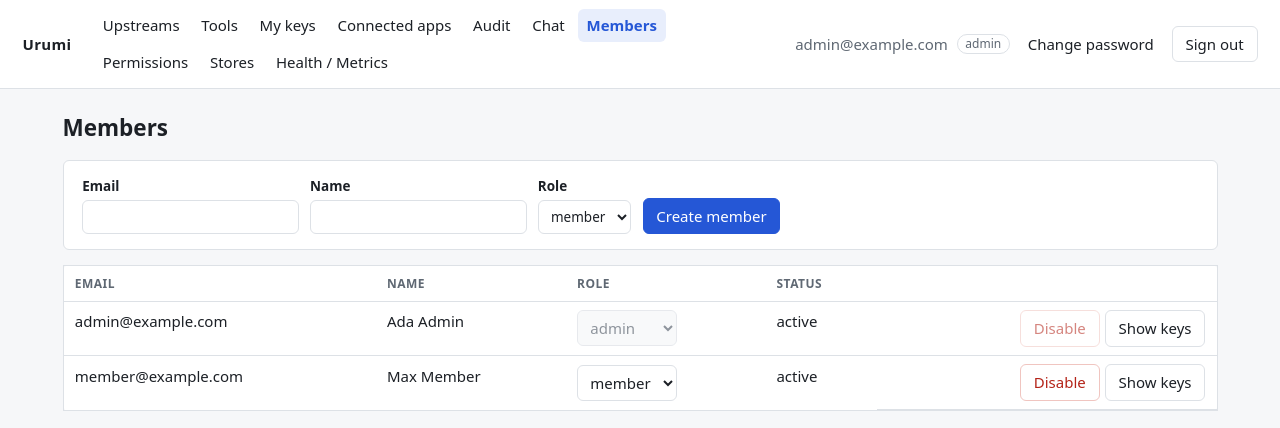
Test: members page (admin) › changes role and disables/enables a member
Select "admin" in the dropdown named "Role for member@example.com": (627, 382) [577,364,676,400]
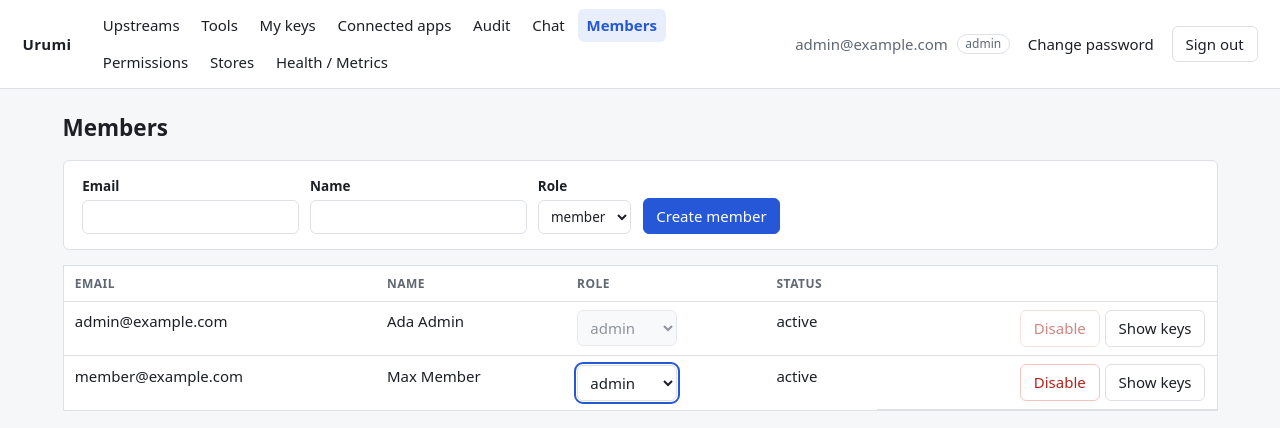
Click the button "Disable" in the row of "member@example.com": click(1060, 382) [1020,364,1100,400]
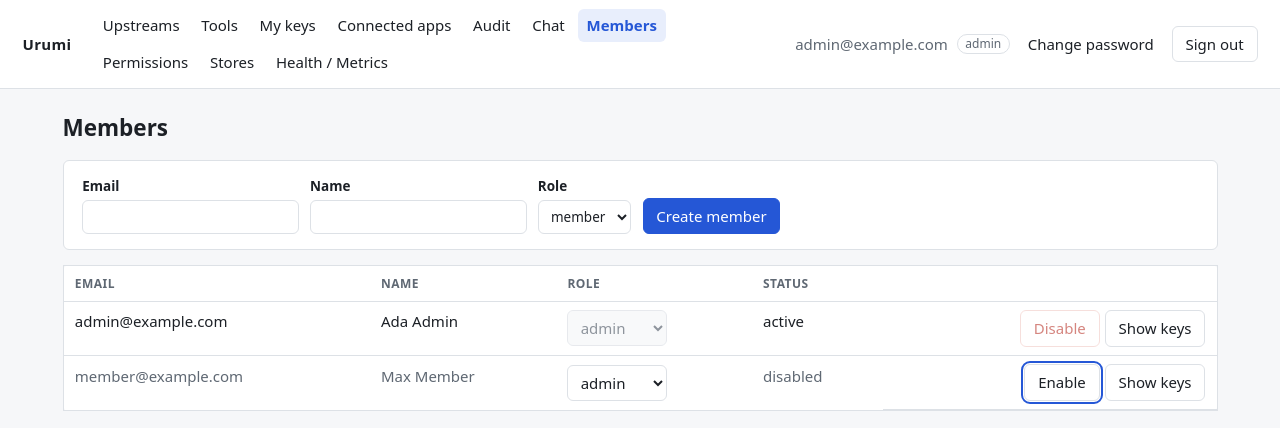
expect the button "Enable" is shown: met, box [1024,364,1100,400]
